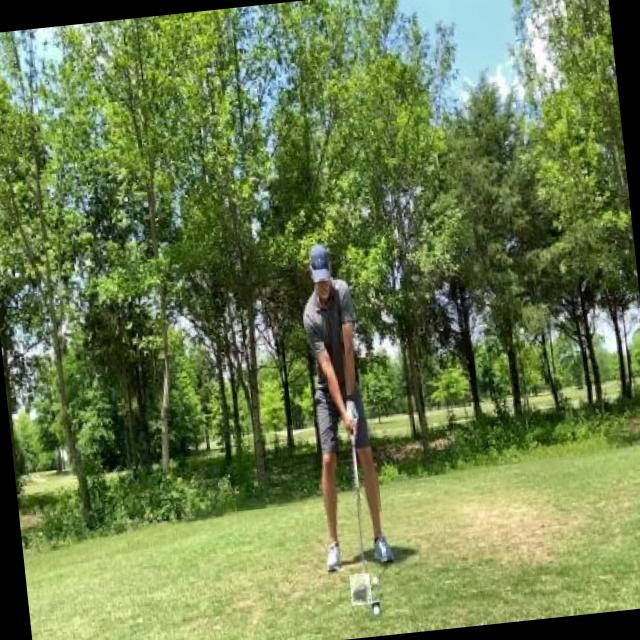club head: (350, 572, 372, 605)
